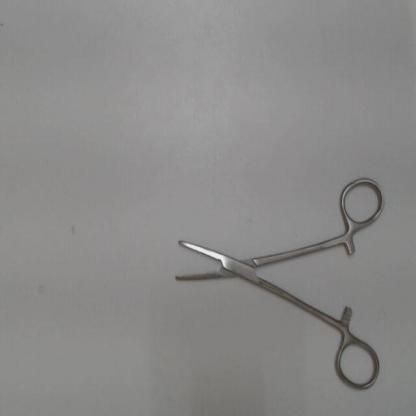Mayo Needle Holder: (166, 171, 389, 397)
